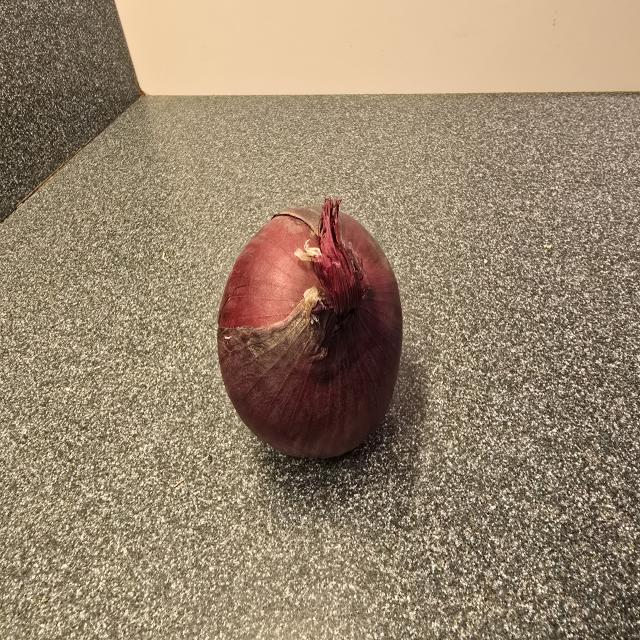Onion: (217, 199, 402, 458)
